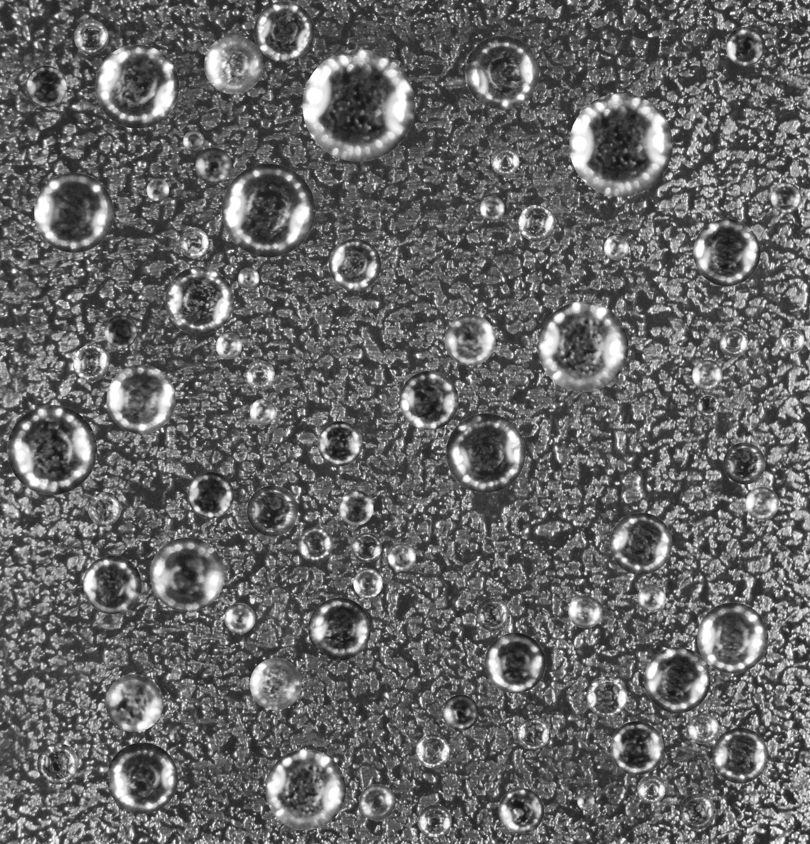Bubble: (302, 49, 414, 161), (569, 93, 672, 196), (221, 163, 315, 257), (538, 301, 628, 391), (7, 405, 96, 494), (95, 44, 179, 128), (265, 749, 345, 829), (34, 172, 113, 252), (446, 413, 525, 492), (150, 537, 224, 611), (465, 35, 539, 109), (697, 602, 768, 673), (106, 742, 177, 813), (106, 364, 175, 433), (165, 266, 233, 334), (693, 219, 760, 286), (644, 647, 710, 713), (308, 597, 370, 660), (609, 512, 672, 574), (484, 632, 545, 693), (254, 1, 314, 61), (399, 371, 458, 430), (204, 35, 263, 94), (83, 555, 141, 614), (105, 674, 163, 731), (712, 727, 768, 783), (610, 721, 663, 775), (249, 658, 301, 710), (329, 238, 381, 290), (444, 314, 495, 365), (246, 485, 297, 536), (187, 472, 233, 518), (498, 788, 544, 833), (317, 421, 362, 466), (723, 442, 765, 484), (25, 65, 67, 107), (37, 743, 78, 784), (586, 676, 627, 717), (725, 26, 765, 66), (518, 204, 555, 241), (73, 344, 109, 381), (359, 784, 395, 820), (195, 147, 231, 183), (679, 793, 715, 829), (443, 694, 478, 730), (338, 490, 373, 525), (298, 527, 333, 562), (568, 593, 602, 628), (74, 20, 108, 54), (415, 734, 449, 768), (418, 804, 451, 838), (87, 492, 121, 525), (104, 315, 137, 348), (745, 486, 778, 519), (476, 598, 509, 631), (517, 718, 549, 749), (688, 713, 719, 744), (224, 603, 255, 633), (692, 359, 722, 390), (771, 182, 801, 212), (351, 532, 381, 562), (245, 360, 275, 390), (178, 227, 208, 257), (353, 568, 382, 598), (719, 328, 748, 357), (387, 543, 415, 571), (637, 775, 665, 803), (491, 147, 519, 175), (637, 584, 665, 612), (249, 399, 275, 425), (215, 333, 241, 359), (480, 196, 504, 220), (780, 328, 804, 352), (604, 235, 628, 259), (696, 393, 719, 416), (146, 178, 169, 201), (238, 267, 259, 289), (183, 130, 204, 151), (577, 792, 594, 810), (684, 523, 694, 533)
